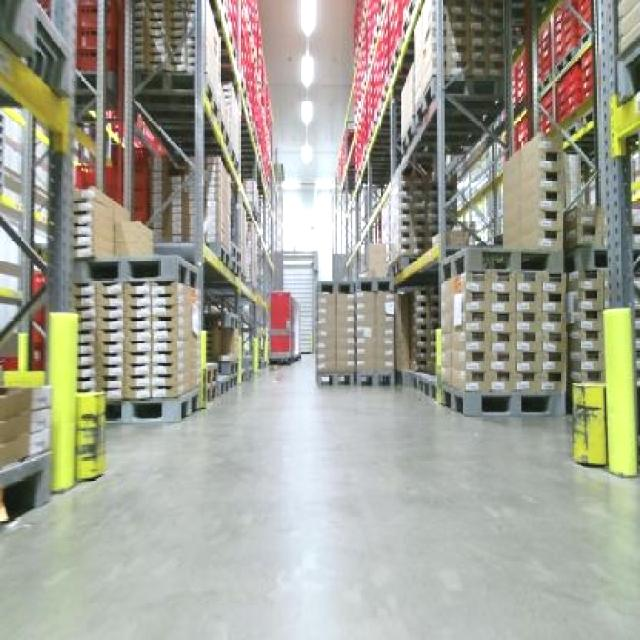floor: (0, 354, 637, 637)
pallets: (438, 246, 563, 412), (314, 278, 392, 380)
